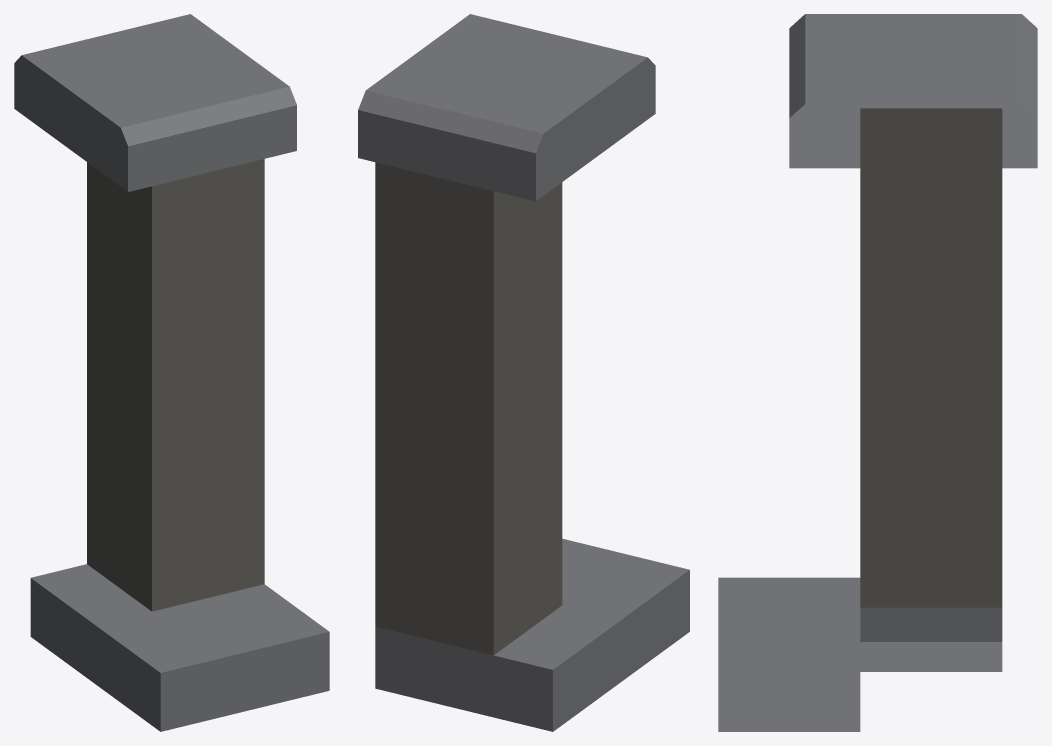
The model's file is SM_Roof_Plug_L.fbx.
3 views of the same model, side by side, from view 1: azimuth 30°, elevation 25°; view 2: azimuth 150°, elevation 25°; view 3: azimuth 270°, elevation 25° (orthographic). The views are drawn at different scales.
Parts seen in each view (by area): view 1: SM_Roof_Plug_L; view 2: SM_Roof_Plug_L; view 3: SM_Roof_Plug_L.
Boxes of the visible parts, x1,y1,x2,y2 form: SM_Roof_Plug_L: (14, 14, 329, 731); SM_Roof_Plug_L: (358, 14, 689, 731); SM_Roof_Plug_L: (718, 14, 1037, 731).
Size of the model in its own units: 30 by 97.55 by 45.
